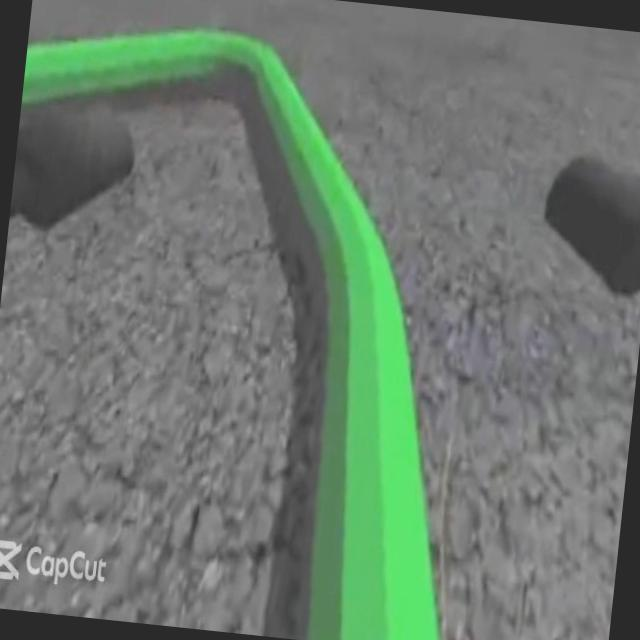gas: (133, 26, 508, 640)
